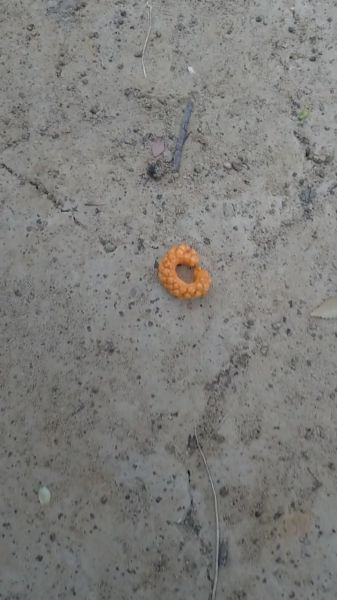eggs: (159, 237, 211, 302)
